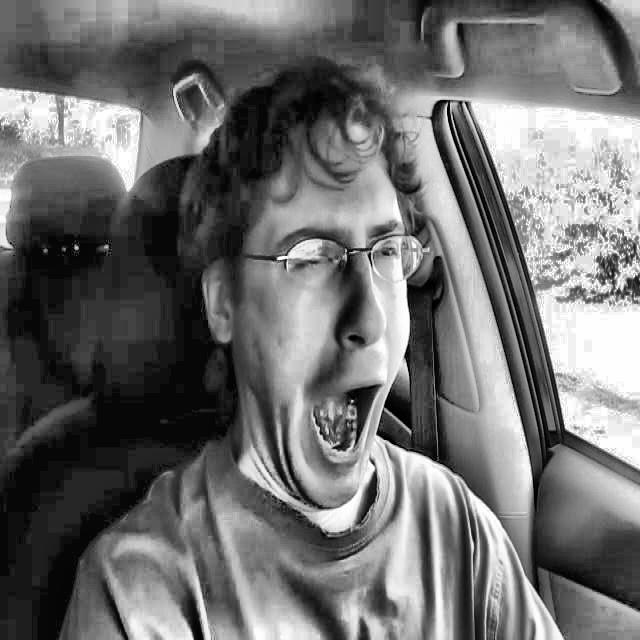open_mouth: (305, 365, 390, 479)
